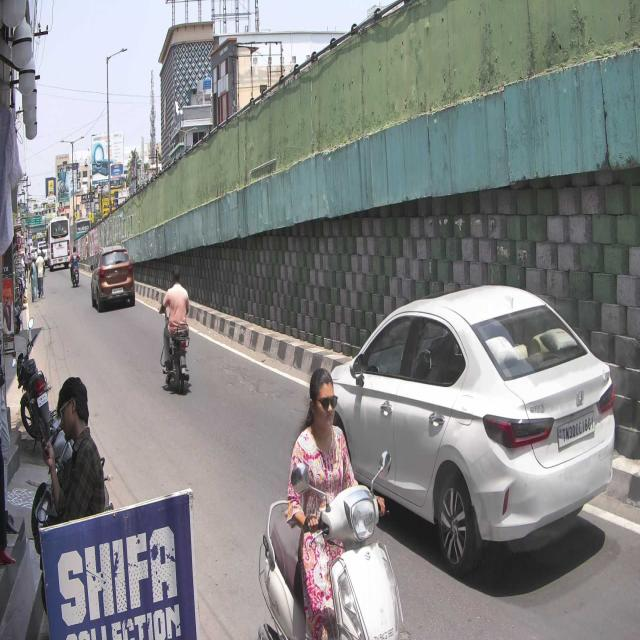single_rider: (259, 365, 409, 640)
